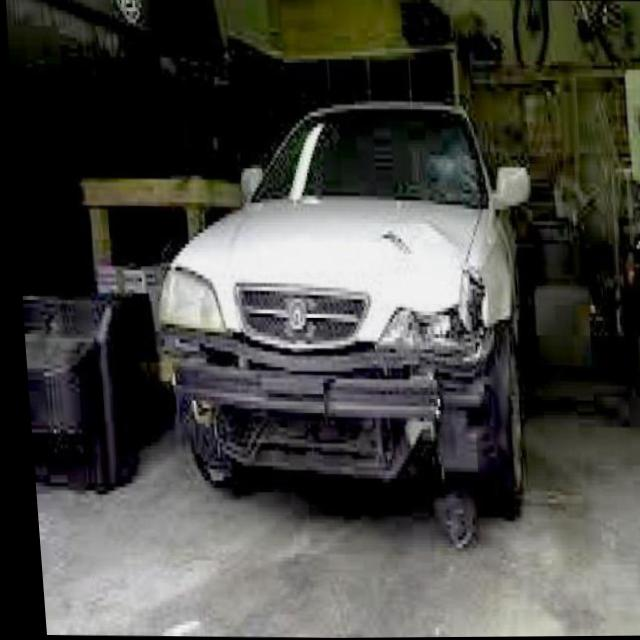Car-Damage: (140, 220, 494, 501)
